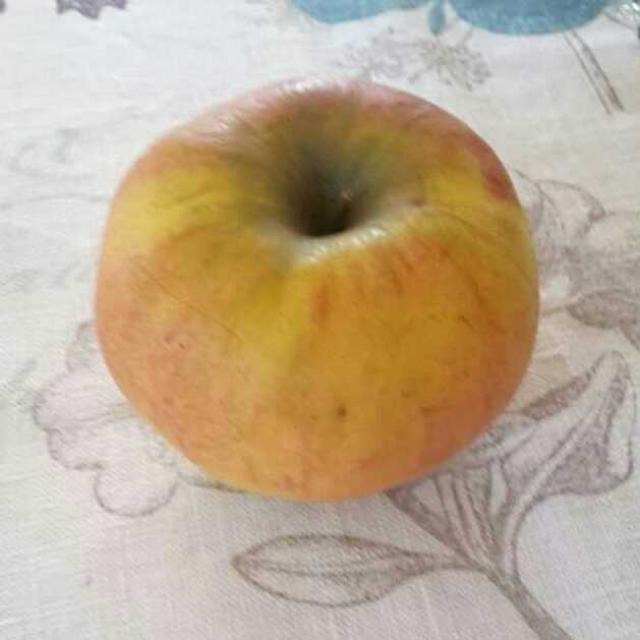apple: (111, 85, 532, 472)
